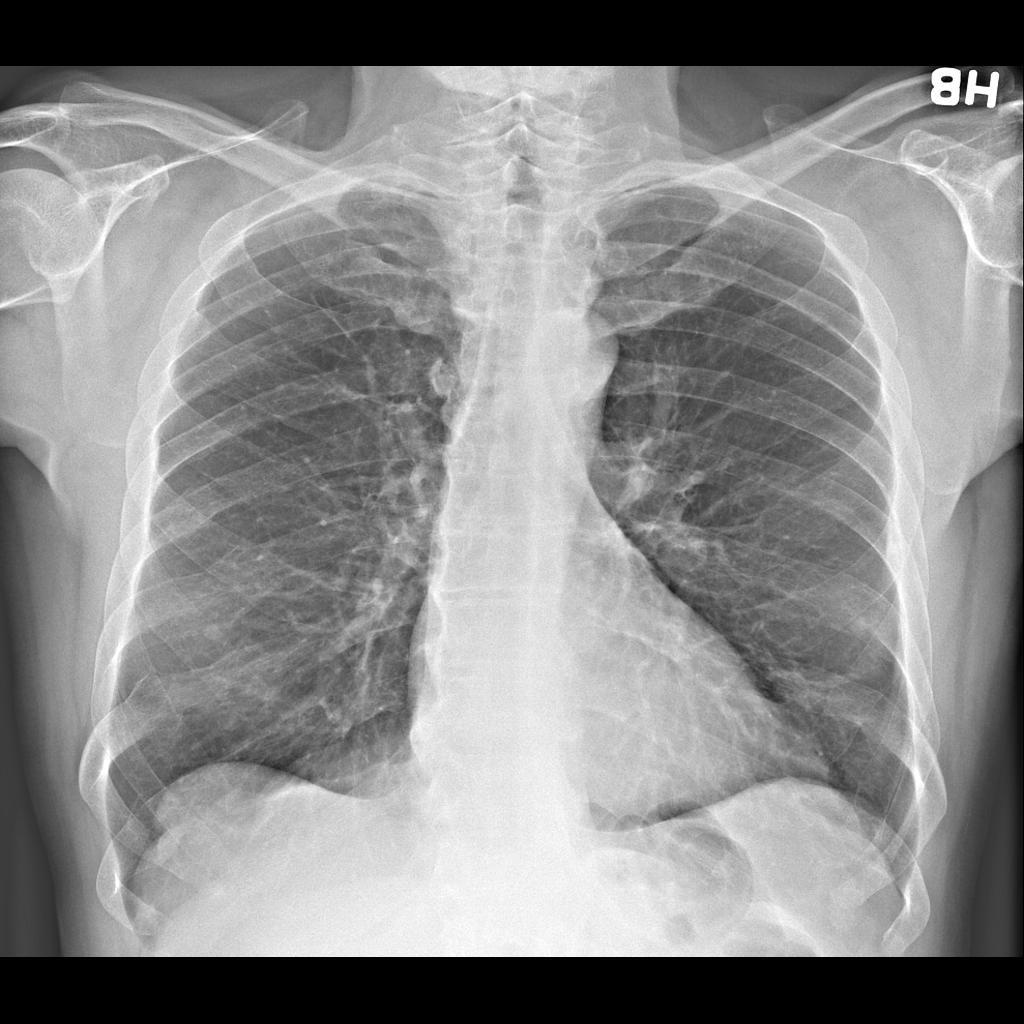Nodule: (188, 612, 243, 656)
